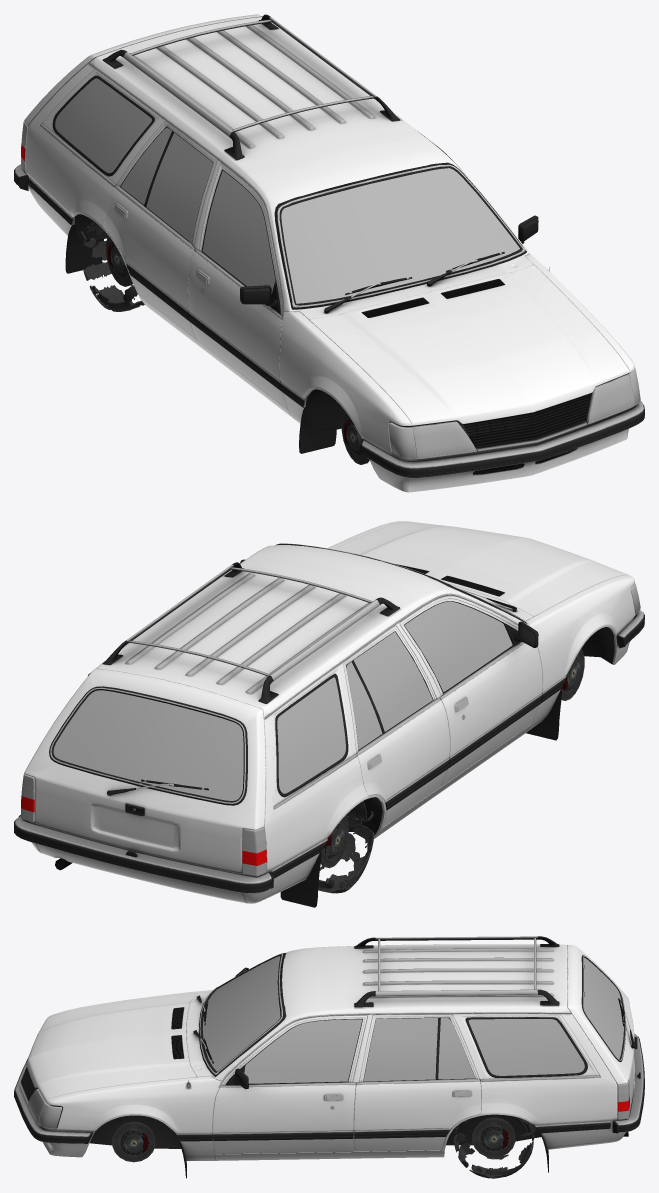
File: 57_WagonVC.fbx
3 views of the same model, one above another, from view 1: azimuth 30°, elevation 25°; view 2: azimuth 150°, elevation 25°; view 3: azimuth 270°, elevation 25° (orthographic). The views are drawn at different scales.
Parts seen in each view (by area): view 1: Body_Duco, Body_Glass, Body_Kits_00, Body_Matte, Body_Chrome, Undercarriage, Rotor; view 2: Body_Duco, Body_Glass, Body_Chrome, Body_Matte, Body_Kits_00, Undercarriage, Rotor (×2); view 3: Body_Duco, Body_Glass, Body_Kits_00, Body_Chrome, Body_Matte, Rotor (×2), Undercarriage.
Part boxes in pixels (left/top/right/bottom): Body_Duco: left=24, top=14, right=636, bottom=492; Body_Glass: left=21, top=78, right=640, bottom=458; Body_Kits_00: left=309, top=265, right=629, bottom=425; Body_Matte: left=14, top=14, right=644, bottom=477; Body_Chrome: left=15, top=17, right=643, bottom=477; Undercarriage: left=74, top=214, right=576, bottom=474; Rotor: left=341, top=412, right=369, bottom=464; Body_Duco: left=24, top=521, right=636, bottom=903; Body_Glass: left=21, top=583, right=640, bottom=876; Body_Chrome: left=15, top=543, right=643, bottom=893; Body_Matte: left=14, top=543, right=644, bottom=907; Body_Kits_00: left=334, top=521, right=628, bottom=616; Undercarriage: left=55, top=569, right=614, bottom=870; Rotor (×2): left=321, top=649, right=584, bottom=868; Body_Duco: left=40, top=944, right=634, bottom=1160; Body_Glass: left=27, top=956, right=630, bottom=1128; Body_Kits_00: left=26, top=993, right=196, bottom=1101; Body_Chrome: left=15, top=936, right=643, bottom=1143; Body_Matte: left=14, top=936, right=644, bottom=1178; Rotor (×2): left=112, top=1117, right=515, bottom=1162; Undercarriage: left=89, top=1114, right=628, bottom=1148.
Bounding box in the file's own units: 1.94 × 1.42 × 4.67.
